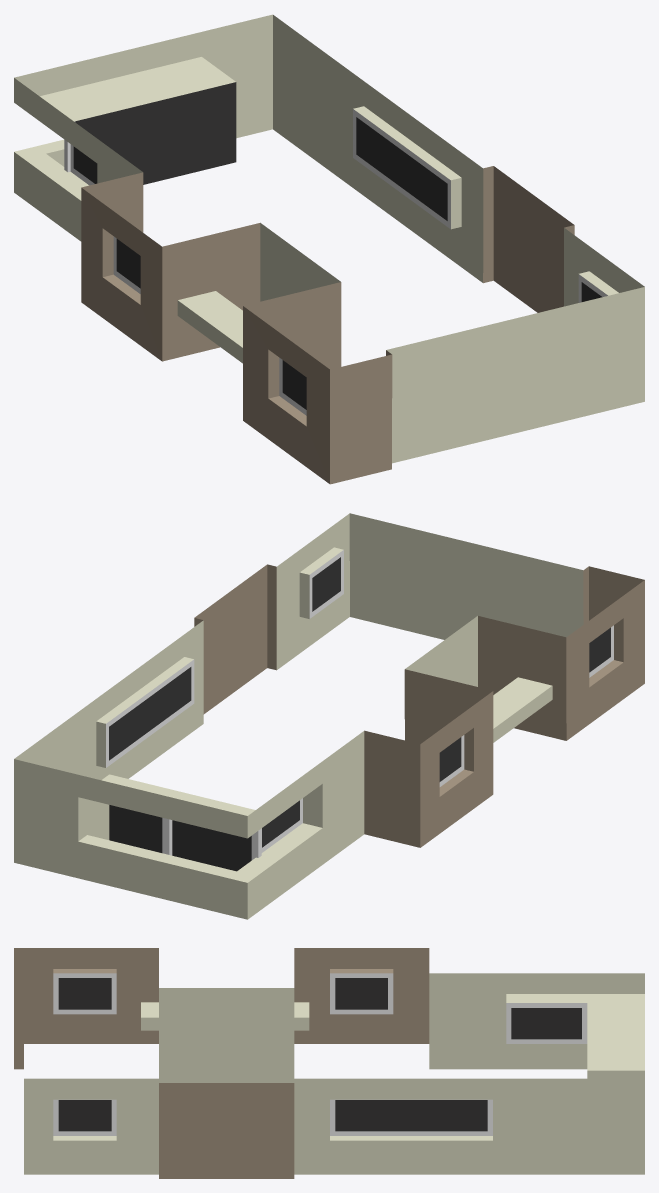
File: building4_middle1.fbx
3 views of the same model, one above another, from view 1: azimuth 30°, elevation 25°; view 2: azimuth 150°, elevation 25°; view 3: azimuth 270°, elevation 25° (orthographic). The views are drawn at different scales.
Visible parts, largest first — view 1: building4_middle1; view 2: building4_middle1; view 3: building4_middle1.
Part boxes in pixels (x1,y1,x2,y2): building4_middle1: (14,14,644,484); building4_middle1: (14,513,644,919); building4_middle1: (14,948,644,1178).
Bounding box in the file's own units: 755 × 250 × 1492.
